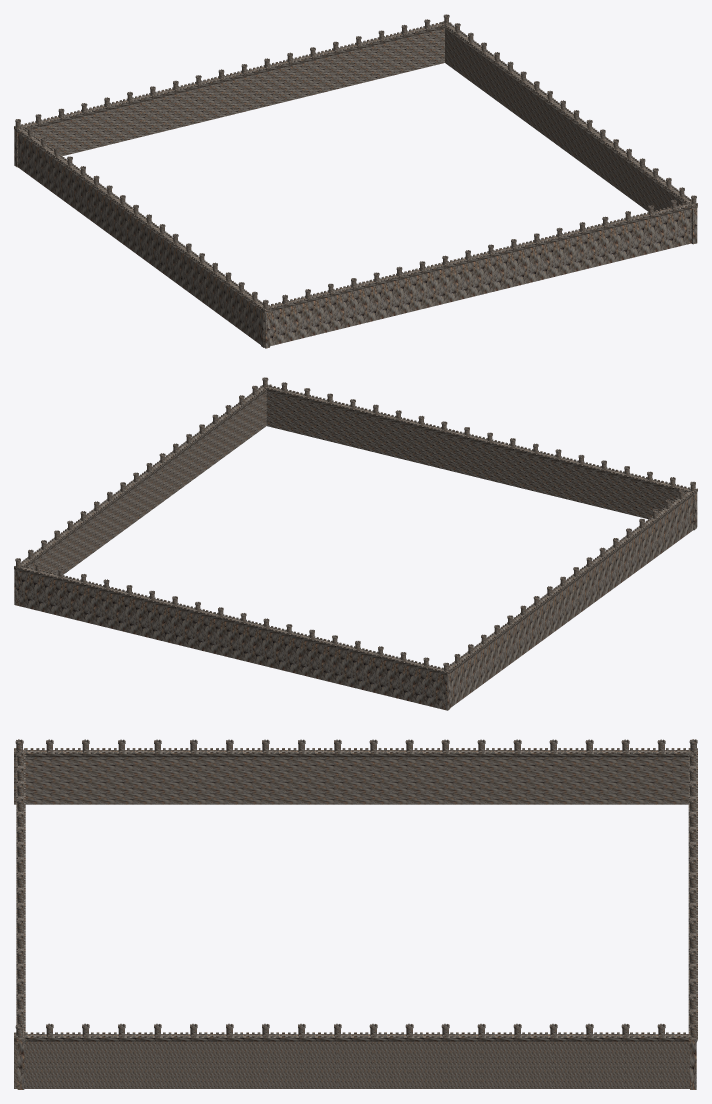
Rendered from landscape_wall.obj.
3 renders of one model, top to bottom at view 1: azimuth 30°, elevation 25°; view 2: azimuth 150°, elevation 25°; view 3: azimuth 270°, elevation 25°, orthographic. The views are drawn at different scales.
Parts seen in each view (by area): view 1: pCylinder1.003_Untitled.007; view 2: pCylinder1.003_Untitled.007; view 3: pCylinder1.003_Untitled.007.
Boxes of the visible parts, bbox=[...] form: pCylinder1.003_Untitled.007: bbox=[14, 14, 697, 348]; pCylinder1.003_Untitled.007: bbox=[14, 377, 697, 710]; pCylinder1.003_Untitled.007: bbox=[14, 739, 697, 1089].
Size of the model in its own units: 203 by 20.44 by 203.
Materials: 2 (2 with a texture image).
